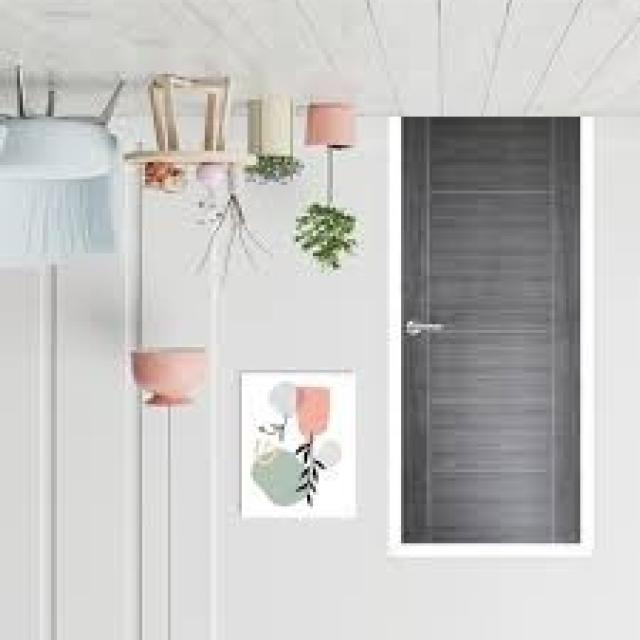door: (399, 117, 582, 546)
